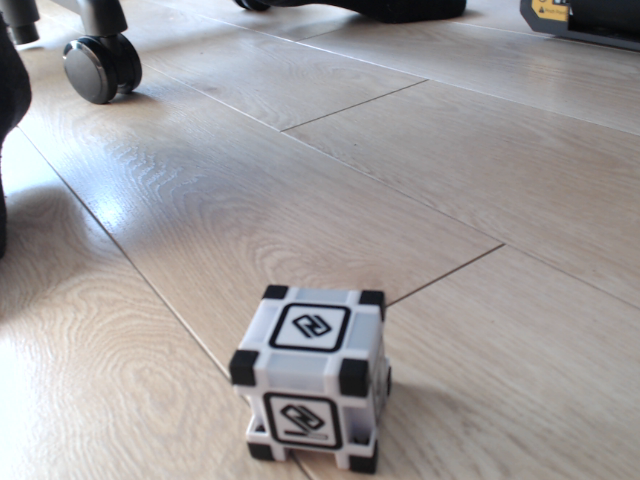block: (228, 281, 395, 475)
